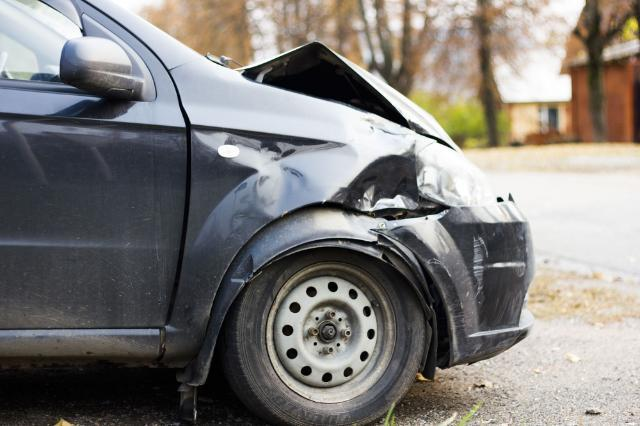dent: (229, 133, 416, 220), (232, 256, 252, 283)
dislocated part: (206, 40, 464, 151)
scratch: (468, 235, 488, 296)
